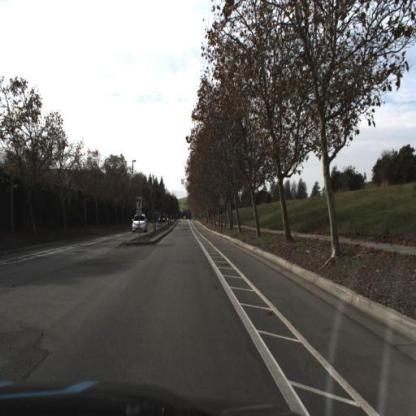car: (133, 215, 147, 234)
